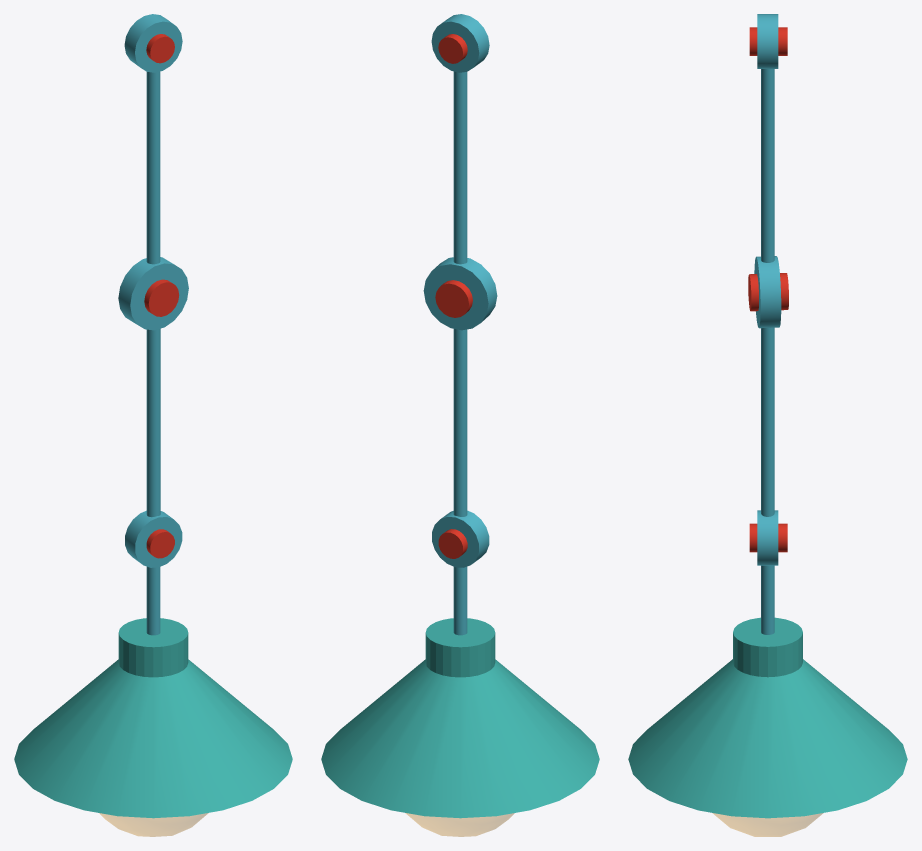
3 views of the same model, side by side, from view 1: azimuth 30°, elevation 25°; view 2: azimuth 150°, elevation 25°; view 3: azimuth 270°, elevation 25° (orthographic).
Parts seen in each view (by area): view 1: Cone001, Cylinder006, Cylinder007, Cylinder003, Cylinder009, Cylinder002, Sphere001, Cylinder001, Cylinder005, Cylinder004, Cylinder008; view 2: Cone001, Cylinder006, Cylinder007, Cylinder003, Cylinder009, Cylinder002, Sphere001, Cylinder005, Cylinder001, Cylinder008, Cylinder004; view 3: Cone001, Cylinder007, Cylinder003, Cylinder006, Sphere001, Cylinder009, Cylinder002, Cylinder001, Cylinder005, Cylinder004, Cylinder008.
Part boxes in pixels (x1,y1,x2,y2): Cone001: (14,618,292,818); Cylinder006: (118,257,188,330); Cylinder007: (146,71,160,264); Cylinder003: (146,328,160,517); Cylinder009: (124,14,182,72); Cylinder002: (125,510,182,567); Sphere001: (99,813,207,836); Cylinder001: (146,566,160,635); Cylinder005: (144,279,179,316); Cylinder004: (146,529,174,558); Cylinder008: (146,34,174,63); Cone001: (321,618,599,818); Cylinder006: (423,257,497,330); Cylinder007: (453,71,467,264); Cylinder003: (453,329,467,516); Cylinder009: (431,14,489,72); Cylinder002: (432,510,489,567); Sphere001: (406,813,514,836); Cylinder005: (435,280,472,317); Cylinder001: (453,566,467,635); Cylinder008: (438,34,467,63); Cylinder004: (438,529,467,558); Cone001: (628,617,907,818); Cylinder007: (761,69,774,262); Cylinder003: (761,327,774,516); Cylinder006: (754,256,781,328); Sphere001: (713,813,822,836); Cylinder009: (757,14,778,68); Cylinder002: (757,510,778,565); Cylinder001: (761,565,774,634); Cylinder005: (748,273,788,311); Cylinder004: (749,523,787,552); Cylinder008: (749,27,787,55).
Size of the model in its own units: 564 by 1810 by 564.
